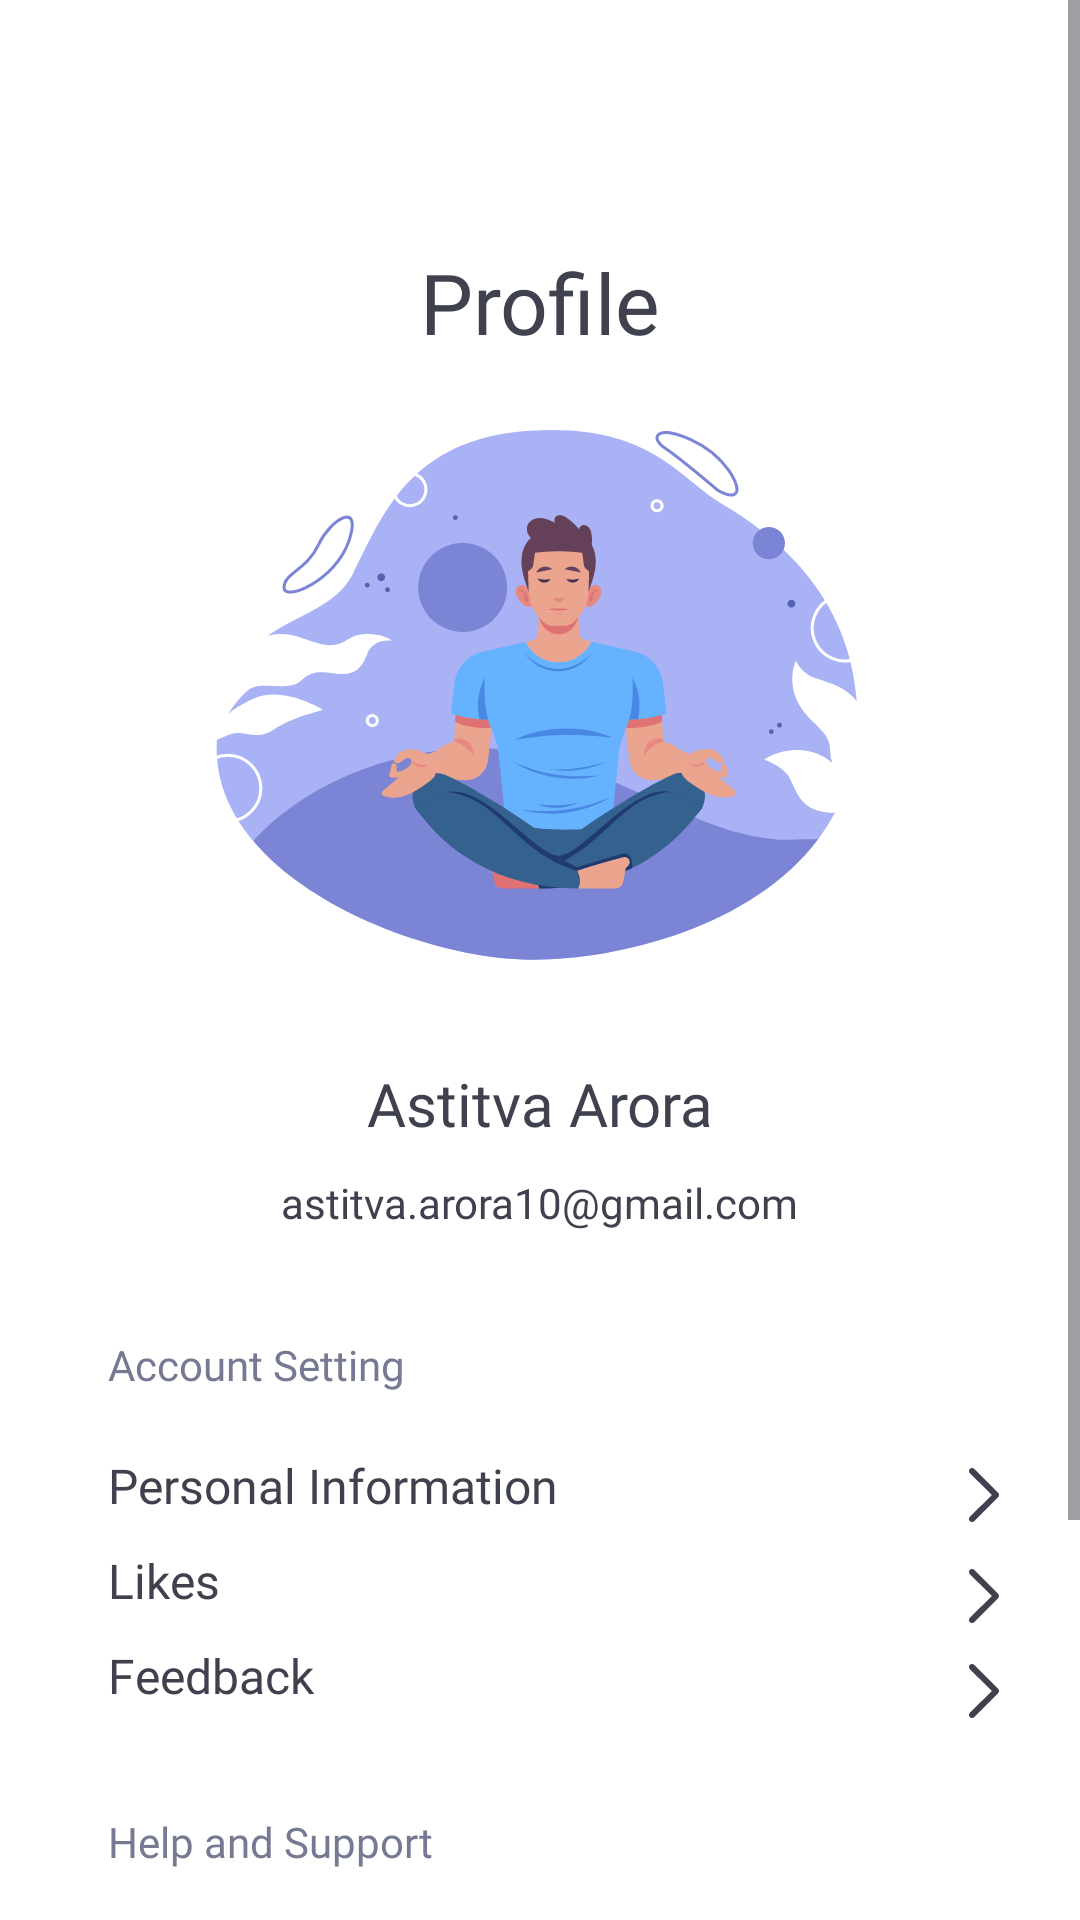

Where icons sit on this 1080px×1920px app screen, as box=[x1, y1, x2, y2]:
forward: box=[969, 1468, 999, 1522], box=[969, 1569, 999, 1623], box=[969, 1664, 999, 1718]
